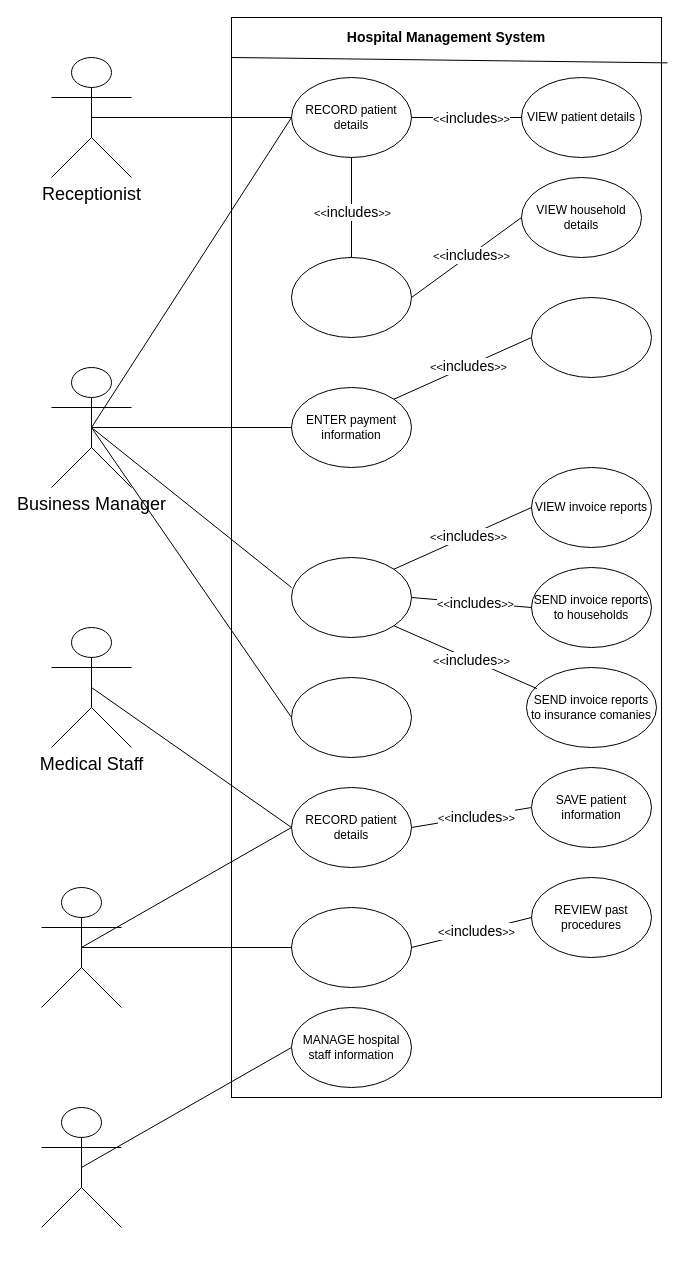
The diagram is 687 pixels wide and 1274 high, and some of its shapes have lost their labels. The shapes that lost their labels are listed below. From the top down, each one's box as (x1, y1, x2, y2) in pixels, then its label:
(290, 256, 412, 338): RECORD household details
(530, 296, 652, 378): RECORD payment details
(290, 556, 412, 638): GENERATE invoice reports
(290, 676, 412, 758): MONITOR overdue payments
(40, 886, 122, 1008): Doctors
(290, 906, 412, 988): RECORD patient procedures
(40, 1106, 122, 1228): Administrators
